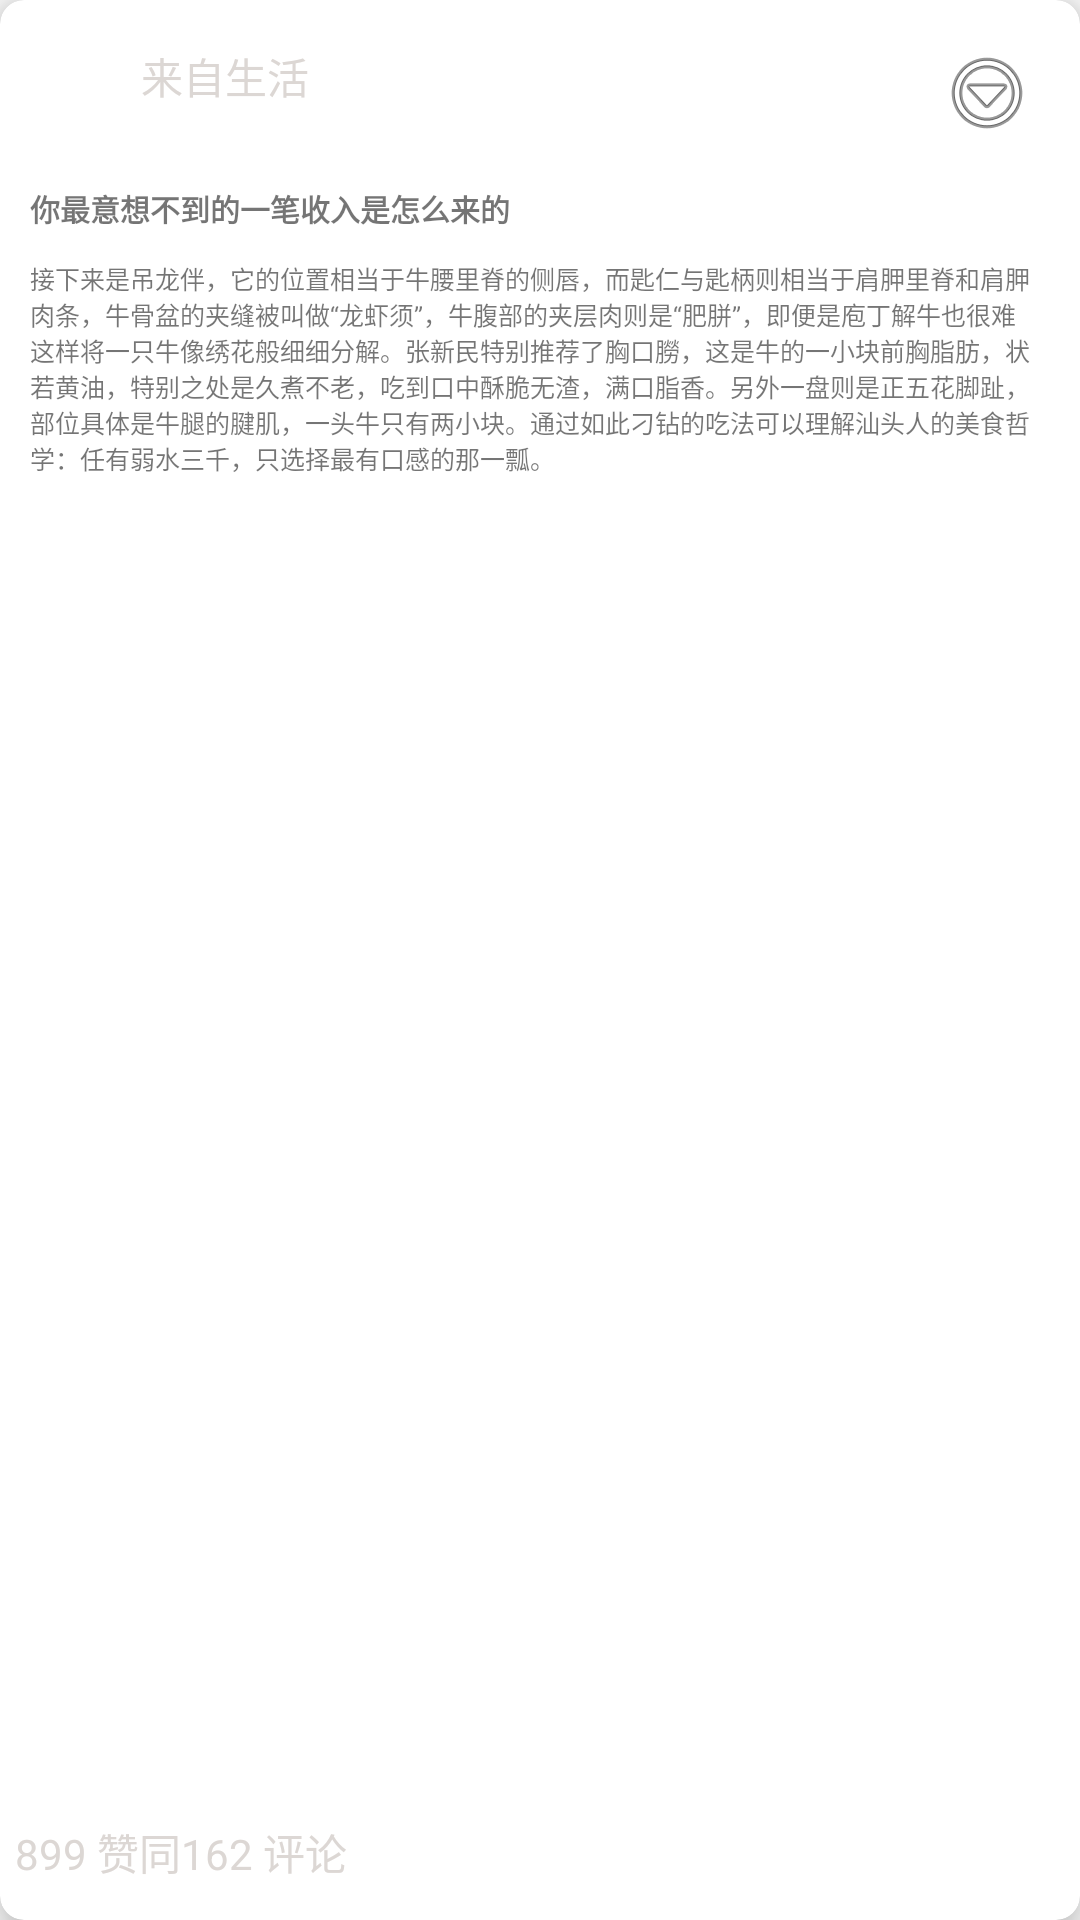

Icon click points for this 1080 x 1920 phone screenshot, format (x=x, y=y):
more: (x=987, y=93)
